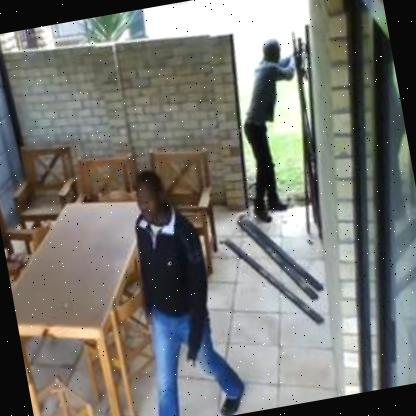chair: (0, 138, 82, 228)
person: (108, 161, 255, 416), (212, 32, 320, 226)
